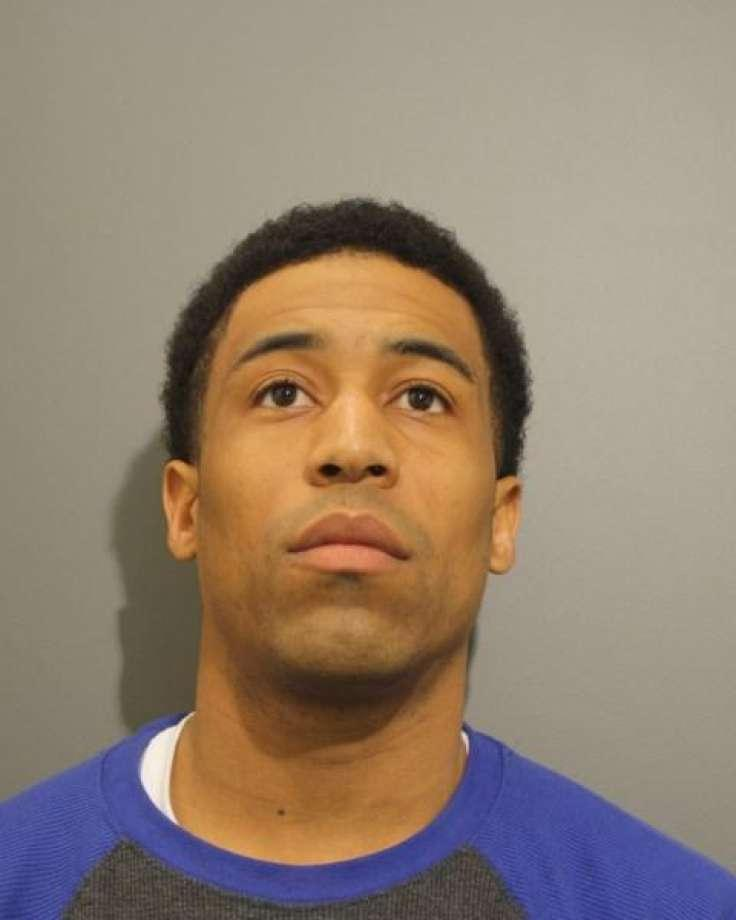Sober: (225, 292, 486, 637)
